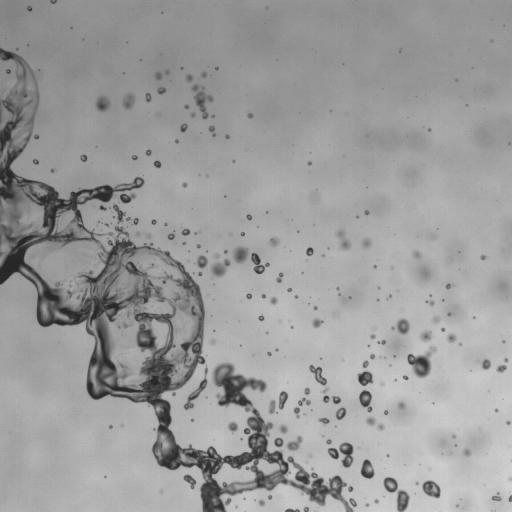droplet: (407, 346, 436, 378), (328, 442, 353, 467), (211, 259, 230, 277), (422, 480, 440, 498), (391, 318, 409, 334), (359, 390, 372, 411), (360, 459, 374, 478), (357, 370, 372, 385), (286, 436, 302, 450), (96, 96, 109, 111), (183, 474, 196, 489), (122, 93, 134, 109), (195, 255, 207, 268), (420, 330, 432, 342), (335, 407, 346, 419), (227, 421, 238, 433), (481, 358, 490, 369), (269, 237, 279, 246), (362, 238, 371, 248), (312, 318, 322, 327), (366, 416, 375, 425), (446, 334, 456, 342), (496, 365, 506, 372), (319, 417, 329, 424), (491, 493, 501, 500), (413, 250, 421, 258), (432, 315, 440, 323), (279, 425, 287, 433), (180, 123, 187, 132), (276, 273, 283, 282), (157, 87, 165, 94), (182, 228, 190, 235), (306, 247, 313, 255), (463, 449, 471, 456), (80, 154, 87, 161), (270, 297, 277, 304), (145, 93, 151, 101), (362, 360, 368, 368), (304, 387, 310, 395), (155, 72, 161, 79), (154, 160, 160, 167), (168, 232, 174, 239), (398, 402, 405, 408), (377, 424, 384, 430), (258, 499, 264, 506), (426, 300, 434, 305), (186, 75, 192, 81), (246, 293, 252, 299), (378, 340, 385, 345), (99, 205, 105, 210), (258, 315, 264, 320), (302, 507, 309, 511), (201, 72, 206, 77), (0, 88, 5, 93), (146, 150, 151, 155), (33, 159, 38, 164), (182, 182, 187, 187), (246, 214, 251, 219), (151, 219, 156, 224), (370, 334, 375, 339), (403, 375, 408, 380), (326, 439, 331, 444), (480, 255, 486, 259), (50, 0, 57, 3), (248, 113, 252, 118), (132, 155, 137, 159), (364, 210, 369, 214), (146, 234, 151, 238), (214, 254, 219, 258), (446, 284, 450, 289), (210, 340, 215, 344), (370, 354, 374, 359), (506, 420, 510, 425), (27, 6, 31, 10), (6, 69, 10, 73), (184, 104, 188, 108), (307, 161, 311, 165), (287, 288, 291, 292), (261, 294, 265, 298), (504, 358, 508, 362), (374, 499, 378, 503), (165, 70, 169, 73), (191, 113, 195, 116), (225, 135, 229, 138), (432, 235, 435, 239), (198, 272, 202, 275), (313, 306, 317, 309), (384, 411, 388, 414), (175, 139, 178, 142), (51, 169, 54, 172), (105, 223, 108, 226), (136, 232, 139, 235), (241, 232, 244, 235), (197, 244, 200, 247), (425, 273, 428, 276), (441, 328, 444, 331), (268, 352, 271, 355), (109, 425, 112, 428), (268, 495, 271, 498), (495, 408, 497, 412), (509, 477, 511, 481), (164, 223, 167, 225), (336, 287, 339, 289), (295, 295, 297, 298), (447, 313, 450, 315), (381, 382, 383, 385), (452, 435, 455, 437), (366, 503, 368, 506), (215, 67, 217, 69), (224, 250, 226, 252), (374, 265, 376, 267), (388, 295, 390, 297), (291, 326, 293, 328), (459, 343, 461, 345), (191, 419, 193, 421), (387, 454, 389, 456)
ligament: (0, 48, 354, 511), (309, 365, 340, 404), (233, 246, 269, 274), (184, 368, 207, 409), (383, 477, 409, 511), (191, 84, 212, 118), (268, 390, 287, 413), (293, 397, 310, 417), (336, 230, 351, 249), (209, 126, 215, 136), (285, 508, 300, 511), (508, 494, 511, 501)
